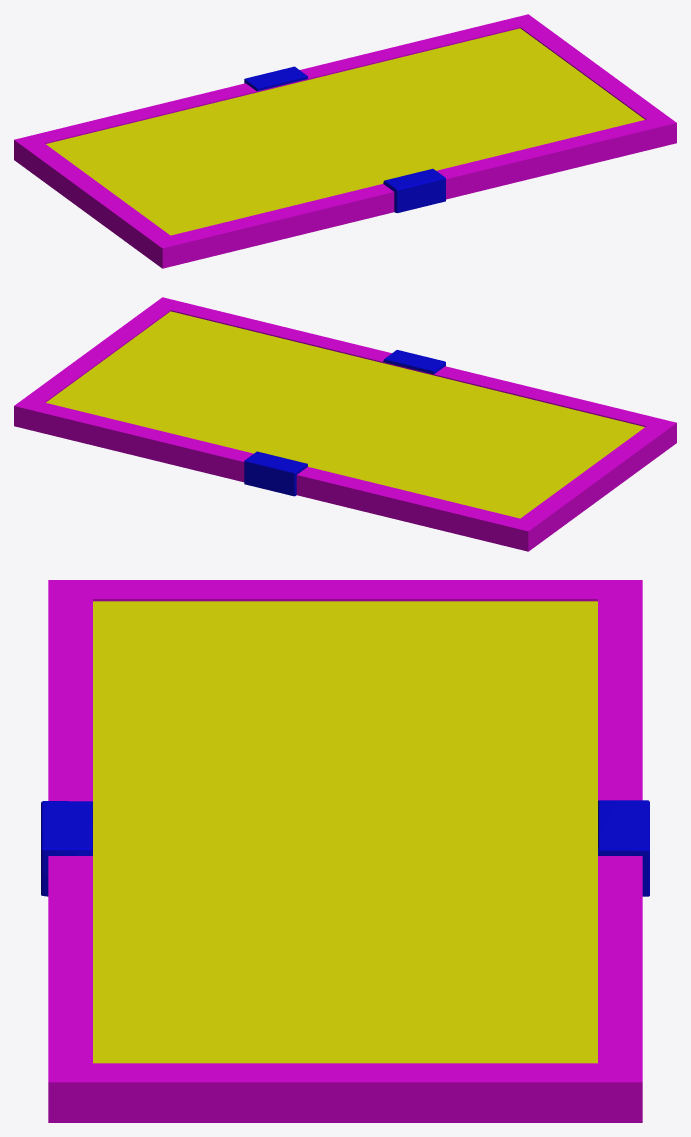
File: Trampa_fuego.fbx
The picture shows the model from 3 angles, top to bottom: view 1: azimuth 30°, elevation 25°; view 2: azimuth 150°, elevation 25°; view 3: azimuth 270°, elevation 25°; orthographic projection. The views are drawn at different scales.
Visible parts, largest first — view 1: polySurface7122; view 2: polySurface7122; view 3: polySurface7122.
Part boxes in pixels (x1,y1,x2,y2): polySurface7122: (14,14,676,268); polySurface7122: (14,297,676,551); polySurface7122: (41,580,649,1122).
Size of the model in its own units: 4 by 0.1757 by 2.05.
